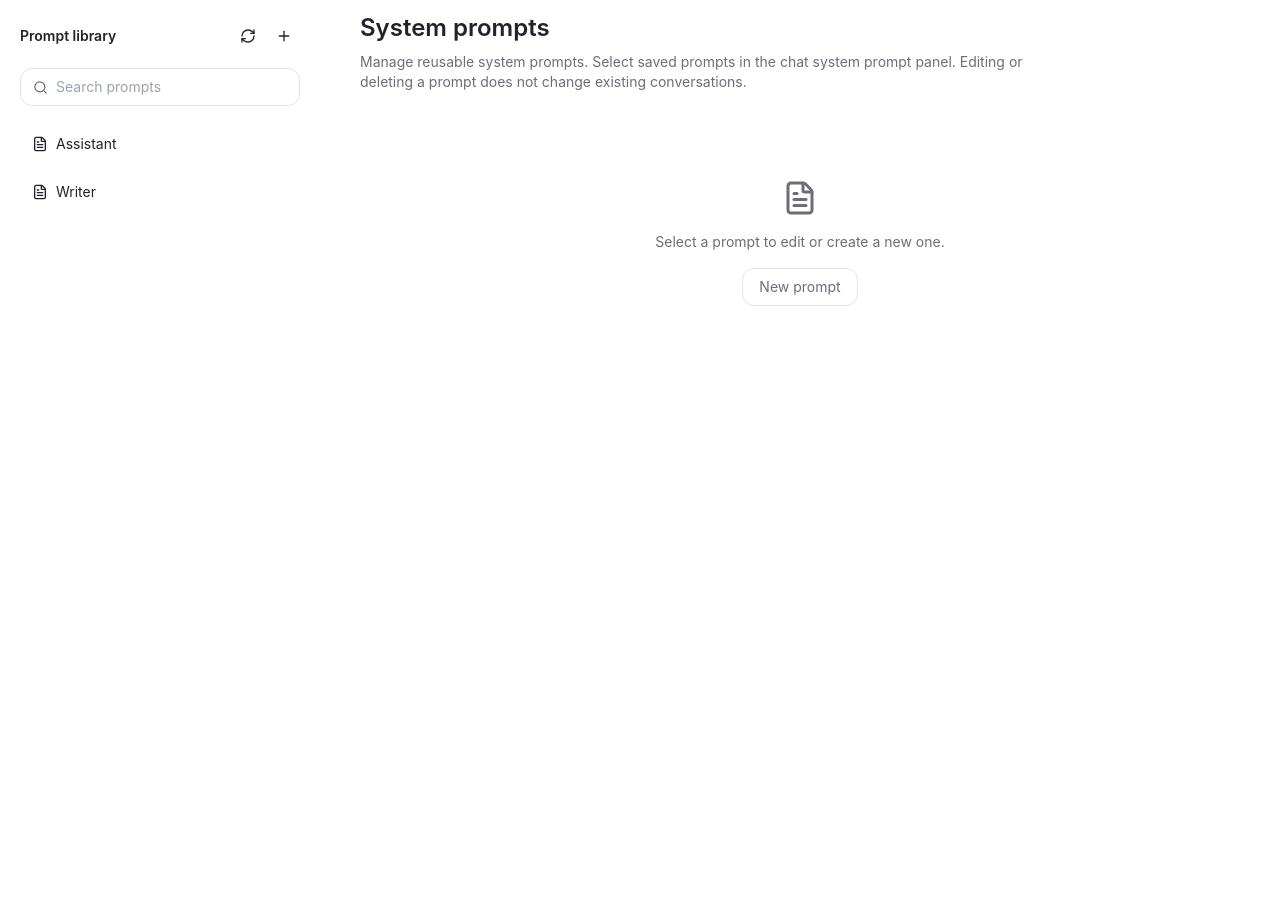
Test case: system prompt management › searches the shared library and loads a prompt without saving it
Expected: the button "Assistant" is shown, 20,122 -> 300,166
Type "wri" into the field labelled "Search prompts".
click(172, 87); type("wri")  # box 56,77 -> 287,97
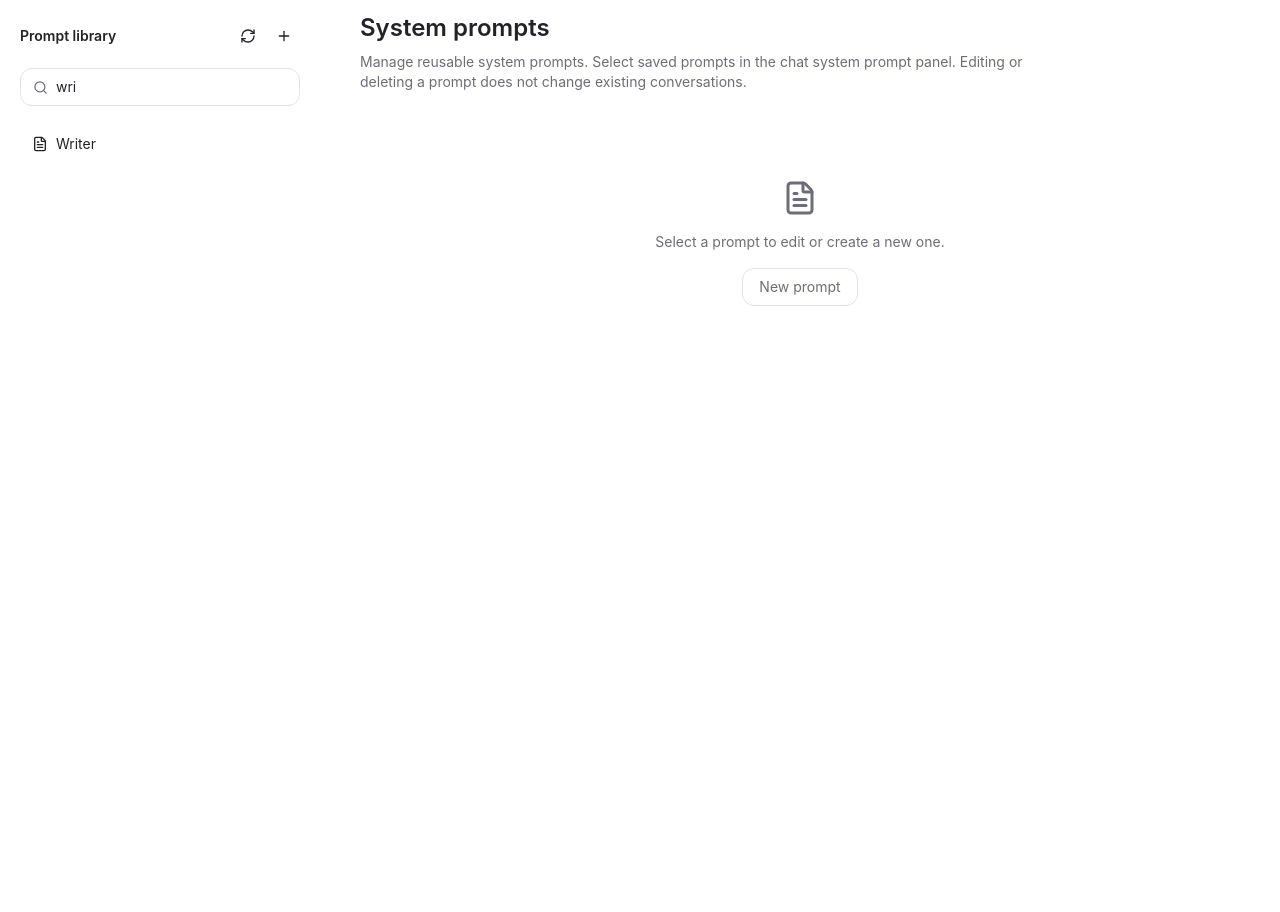
Expected: the button "Assistant" is gone
Click the button "Writer".
click(76, 144)  # box 20,122 -> 300,166
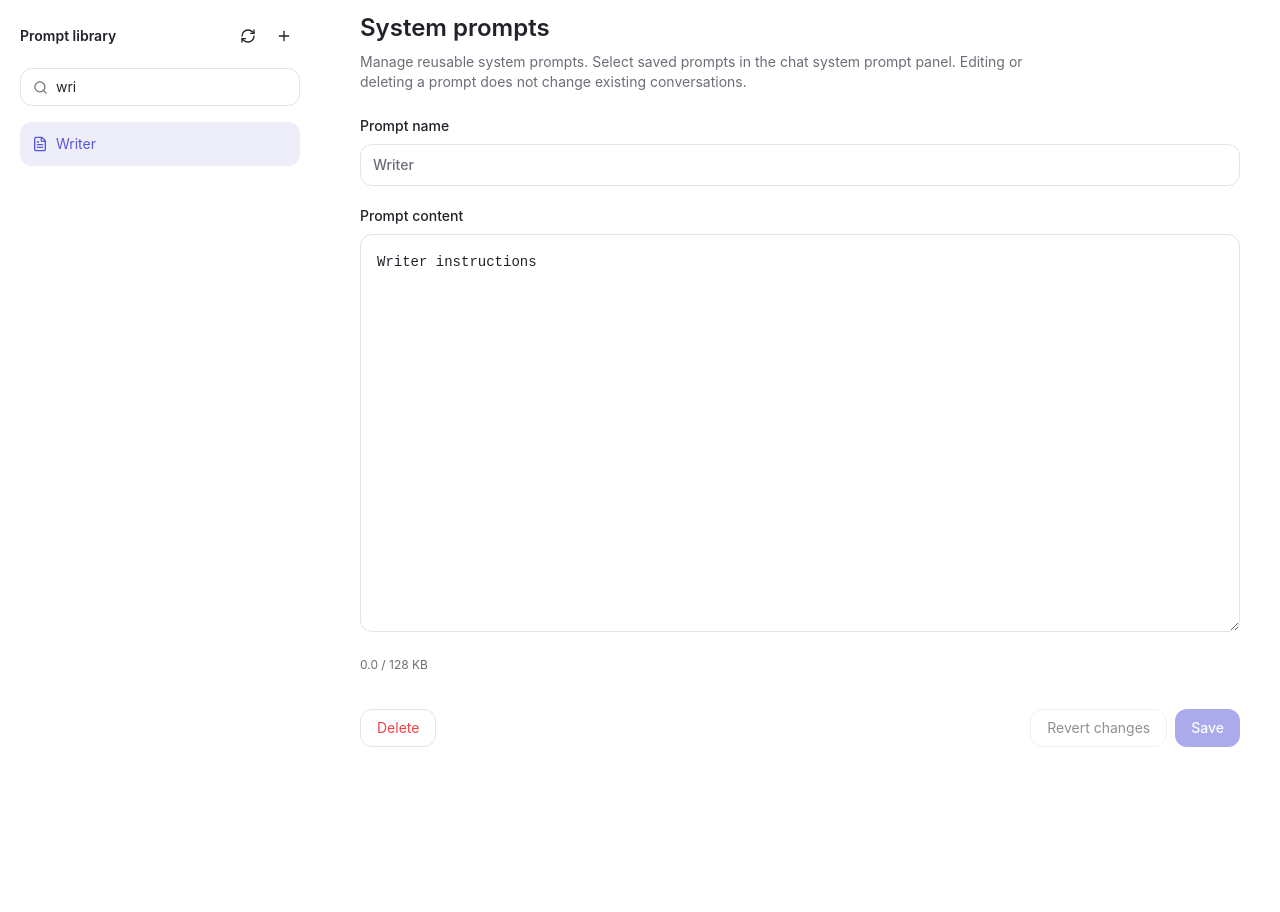
Expected: the text box showing "Writer instructions" is shown, 360,234 -> 1240,632
